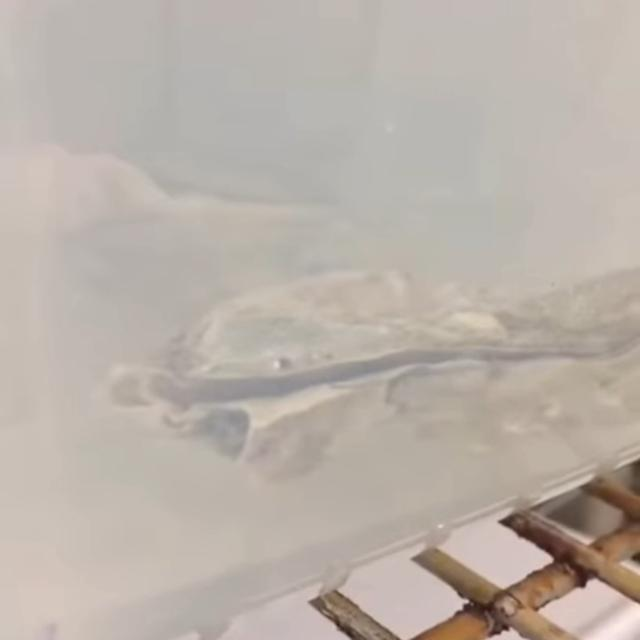Oyster-Indeterminate: (43, 136, 350, 259)
Oyster-Open: (97, 267, 640, 483)
